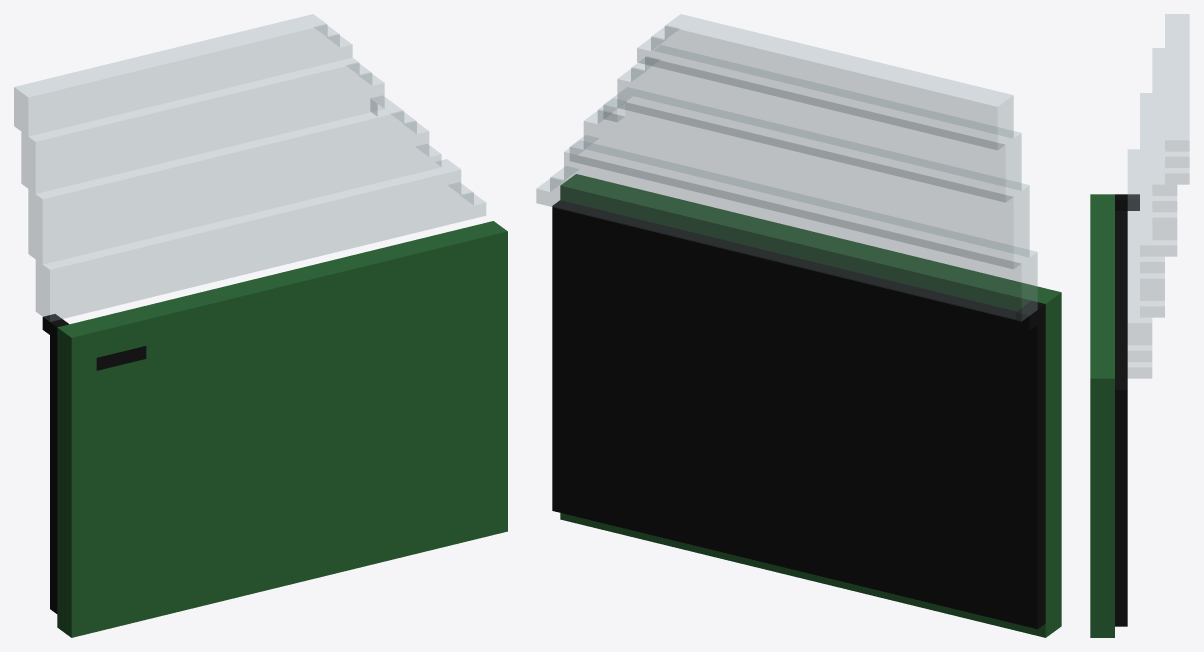
File: suv_front_door.glb
3 views of the same model, side by side, from view 1: azimuth 30°, elevation 25°; view 2: azimuth 150°, elevation 25°; view 3: azimuth 270°, elevation 25° (orthographic). The views are drawn at different scales.
Visible parts, largest first — view 1: body:compound; view 2: body:compound; view 3: body:compound.
Boxes of the visible parts, box(x1,y1,x2,y2) form: body:compound: box(14, 14, 507, 637); body:compound: box(536, 14, 1061, 637); body:compound: box(1090, 14, 1189, 637).
Bounding box in the file's own units: 1.09 × 1.22 × 0.25.
